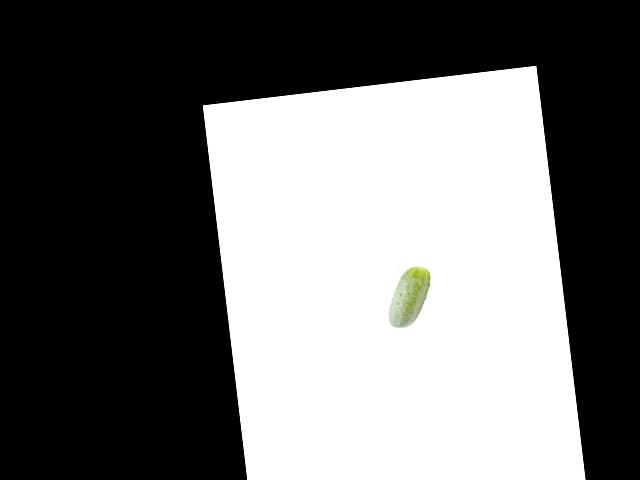cucumber: (382, 265, 435, 329)
